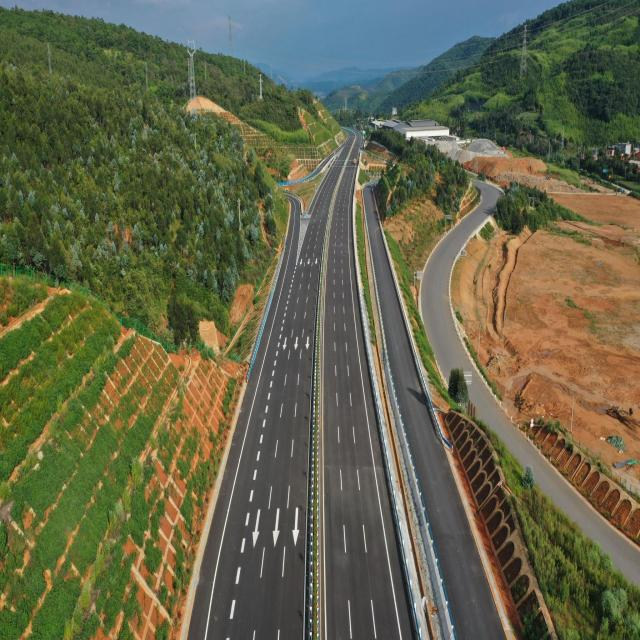point: (328, 106, 370, 161)
